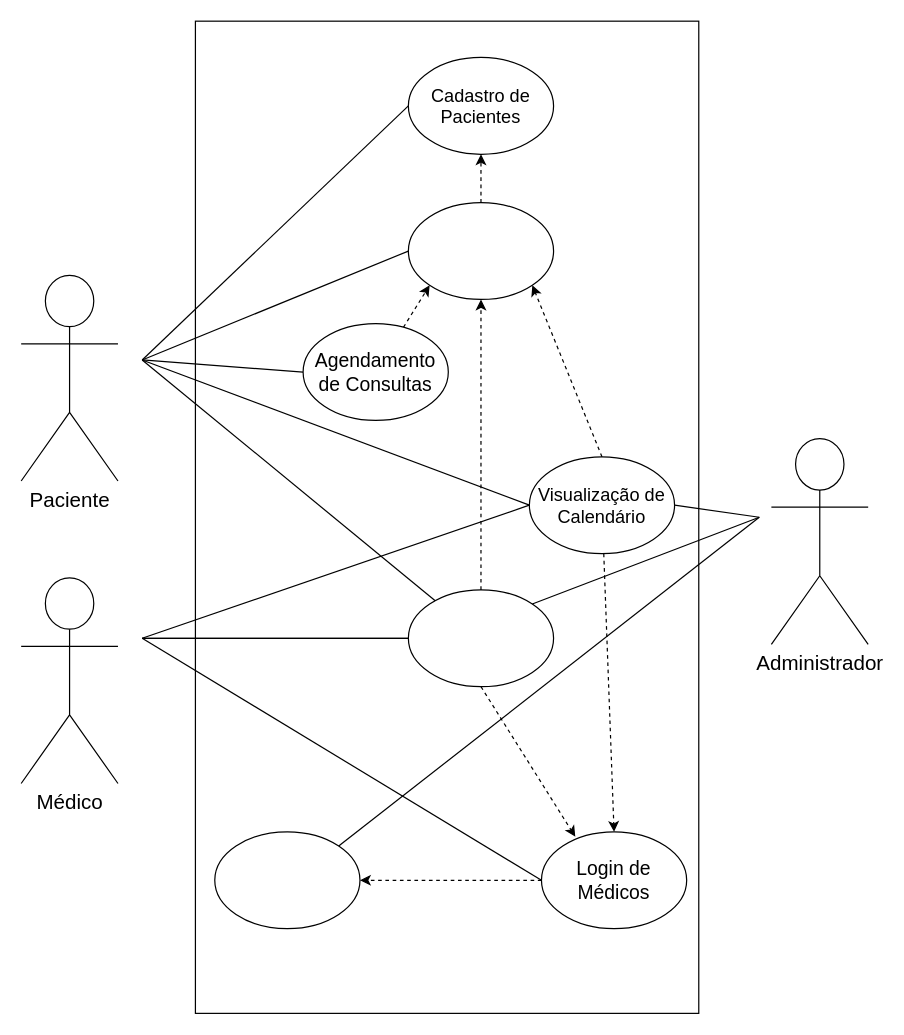
Image size: 904x1035. Some labels were removed from this diagram. Here are the shapes that lost their labels. From the top down, the centre of each, then its label:
At (x=480, y=250): "Login de Pacientes".
At (x=480, y=638): "Visualização de Perfil".
At (x=287, y=880): "Cadastro de Médicos".
